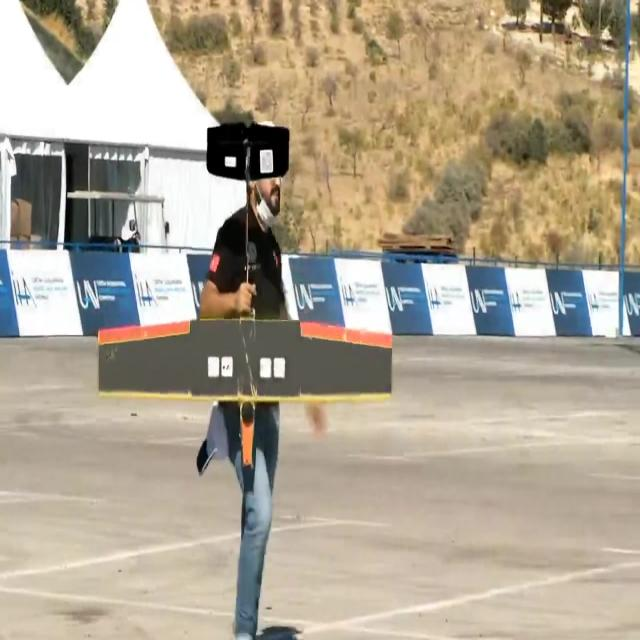iha: (97, 120, 394, 493)
